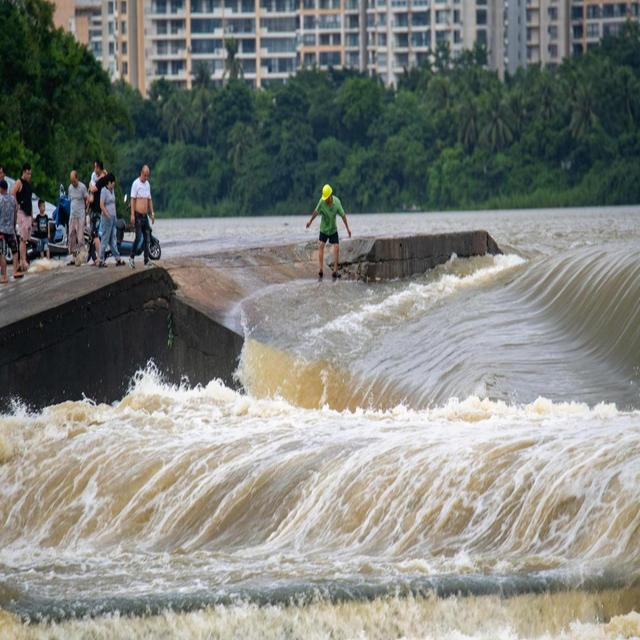Person-RiskLevel1: (123, 165, 168, 264), (91, 173, 127, 269), (11, 163, 39, 273), (63, 168, 89, 263)
Person-RiskLevel2: (300, 179, 354, 282)
